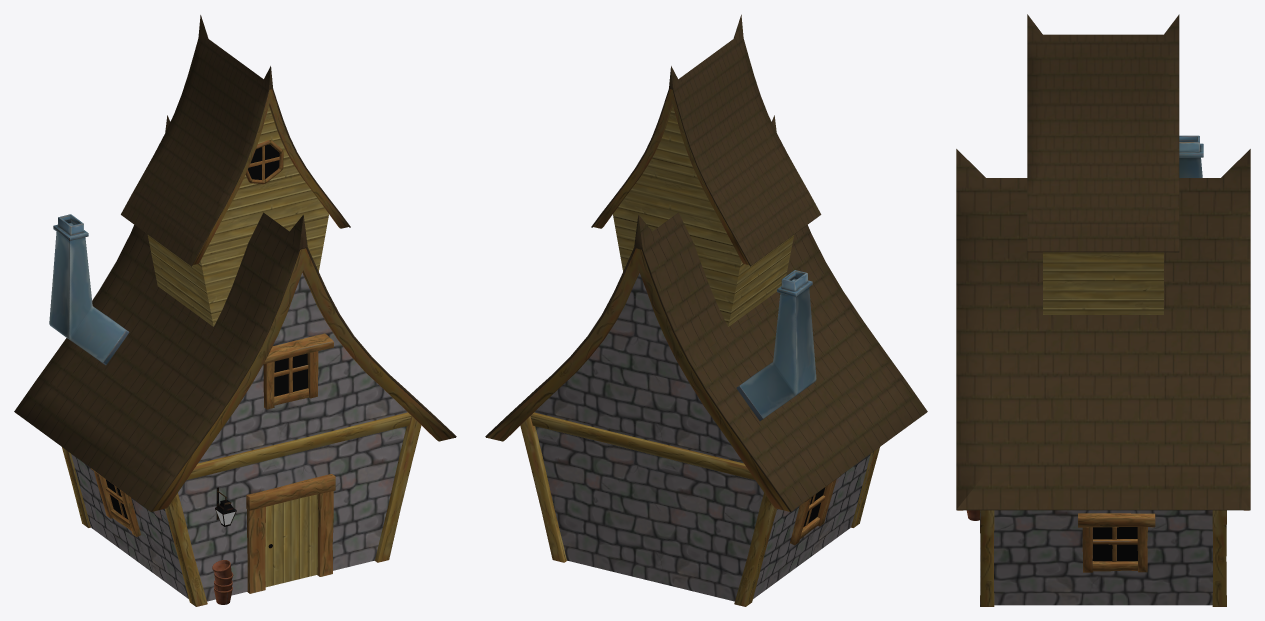
3 renders of one model, left to right at view 1: azimuth 30°, elevation 25°; view 2: azimuth 150°, elevation 25°; view 3: azimuth 270°, elevation 25°, orthographic. The views are drawn at different scales.
Parts seen in each view (by area): view 1: House 2; view 2: House 2; view 3: House 2.
Boxes of the visible parts, x1=… form: House 2: x1=14, y1=15, x2=456, y2=606; House 2: x1=485, y1=14, x2=927, y2=606; House 2: x1=956, y1=14, x2=1250, y2=606.
Bounding box in the file's own units: 326 × 511 × 251.
Materials: 2 (1 with a texture image).
